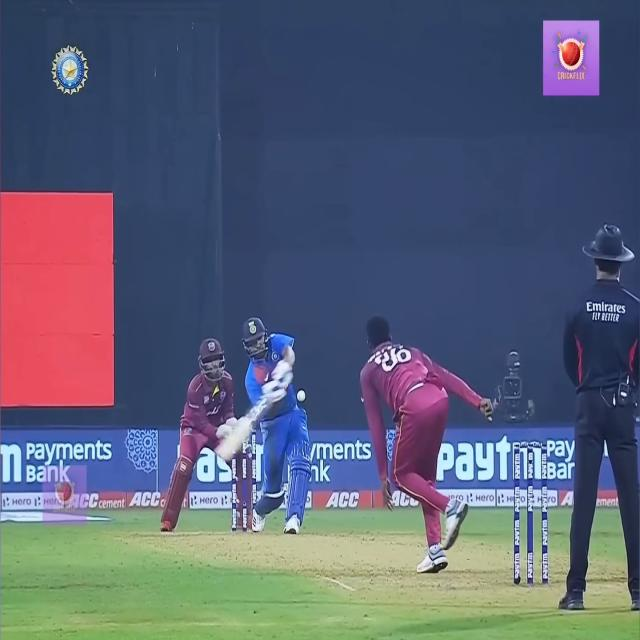partially_visible: (436, 431, 545, 495)
